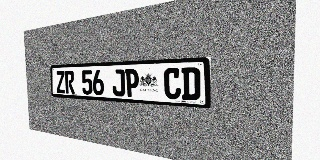5: (81, 70, 93, 95)
6: (92, 70, 104, 95)
C: (164, 68, 181, 100)
D: (181, 67, 200, 101)
J: (112, 69, 125, 96)
P: (125, 69, 139, 97)
R: (65, 71, 75, 94)
Z: (56, 71, 65, 93)
